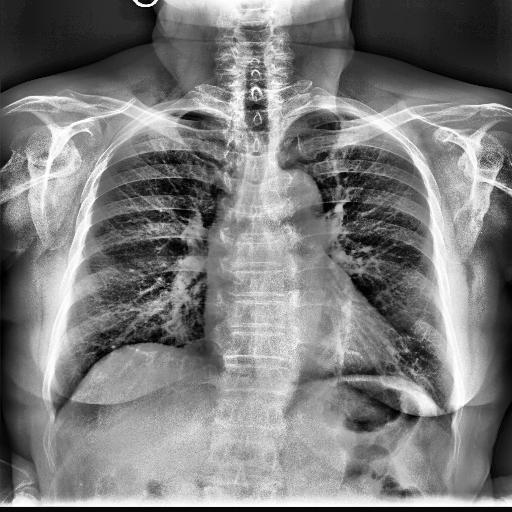0- Aortic enlargement: (264, 166, 326, 242), (260, 168, 324, 222), (263, 168, 326, 218)
